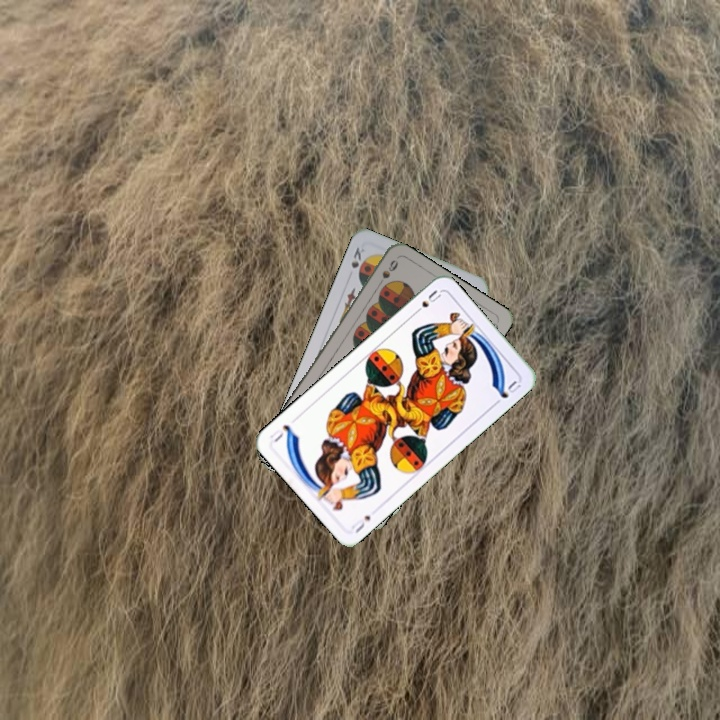S9: (372, 256, 401, 292)
SK: (347, 243, 367, 271)
SU: (409, 286, 444, 318), (347, 511, 373, 536)
